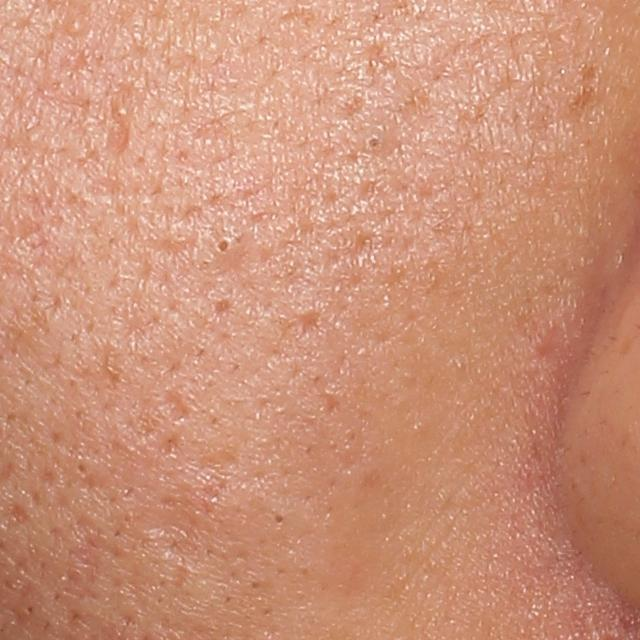atrophic_scar: (104, 115, 136, 165), (163, 383, 191, 427), (294, 309, 323, 339)
comedo: (205, 228, 238, 263), (60, 15, 87, 42), (71, 459, 93, 479), (271, 510, 286, 527)
